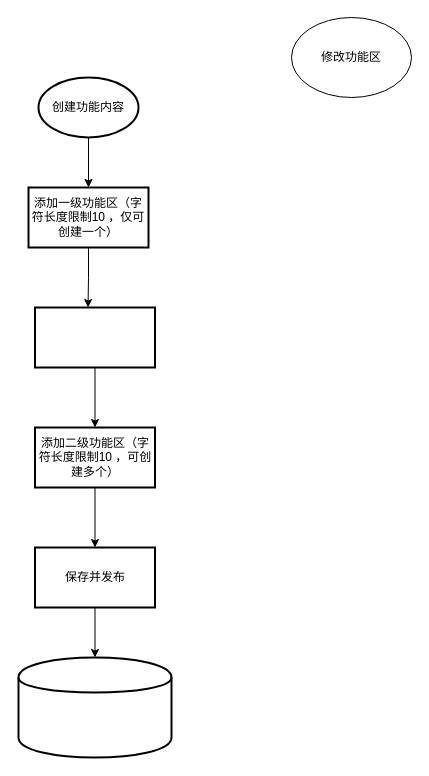
This 429x776 diagram has some shape labels left out. The centre of each missing label's shape, as x and y in pixels:
"MySQL" goes at pixel 94 707.
"上传一级功能区图片（可选）" goes at pixel 95 337.
